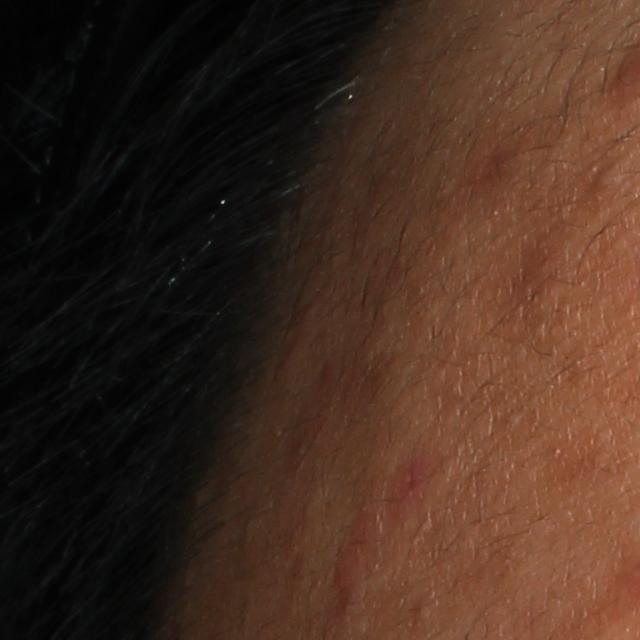comedo: (590, 168, 619, 191)
